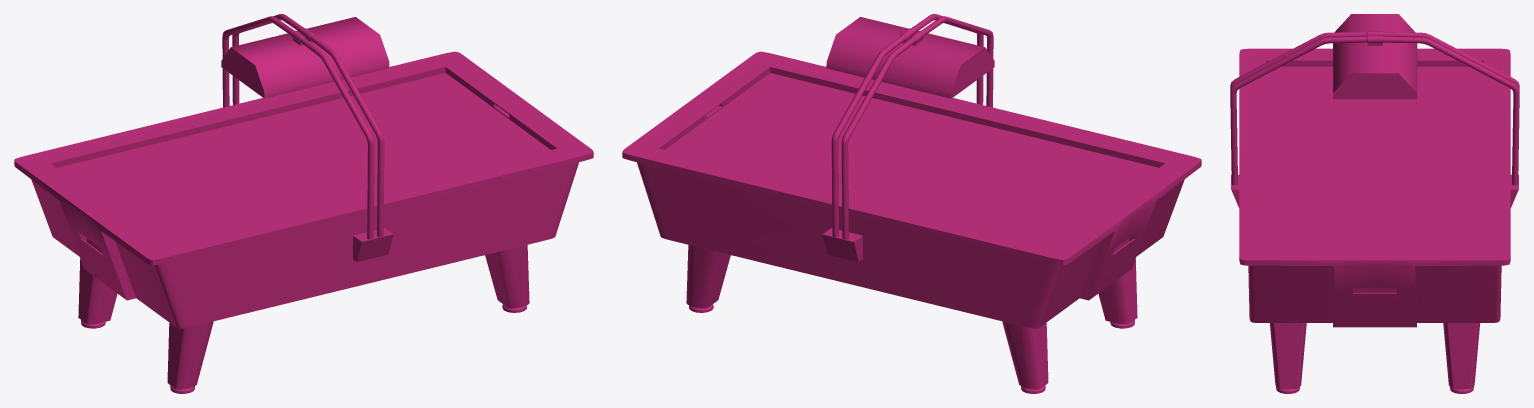
The model's file is Hockey_Table_FBX_ReExport (1).fbx.
3 views of the same model, side by side, from view 1: azimuth 30°, elevation 25°; view 2: azimuth 150°, elevation 25°; view 3: azimuth 270°, elevation 25° (orthographic). The views are drawn at different scales.
Visible parts, largest first — view 1: Hockey_Table_FBX_ReExport__1_; view 2: Hockey_Table_FBX_ReExport__1_; view 3: Hockey_Table_FBX_ReExport__1_.
Boxes of the visible parts, x1,y1,x2,y2 form: Hockey_Table_FBX_ReExport__1_: (14,14,593,393); Hockey_Table_FBX_ReExport__1_: (622,14,1201,393); Hockey_Table_FBX_ReExport__1_: (1230,14,1519,393).
Bounding box in the file's own units: 102 × 61.72 × 58.67.
